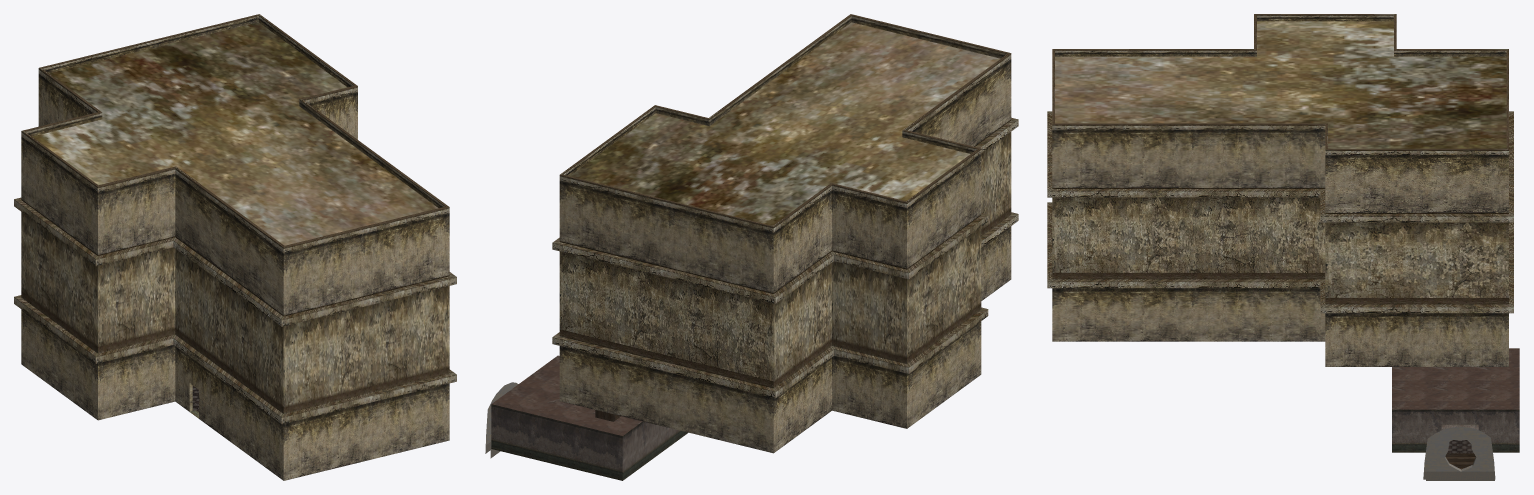
Rendered from Adbsmnt.glb.
The picture shows the model from 3 angles, left to right: view 1: azimuth 30°, elevation 25°; view 2: azimuth 150°, elevation 25°; view 3: azimuth 270°, elevation 25°; orthographic projection. The views are drawn at different scales.
Visible parts, largest first — view 1: _Adbsmnt; view 2: _Adbsmnt; view 3: _Adbsmnt.
Part boxes in pixels (left/top/right/bottom): _Adbsmnt: left=14, top=14, right=456, bottom=480; _Adbsmnt: left=485, top=14, right=1018, bottom=480; _Adbsmnt: left=1047, top=14, right=1519, bottom=480.
Size of the model in its own units: 35 by 27.46 by 39.79.
Materials: 9 (9 with a texture image).
